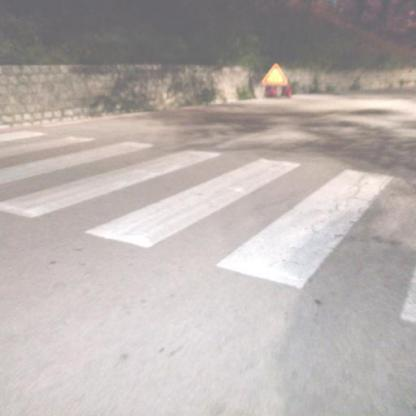crosswalk: (1, 141, 305, 268)
